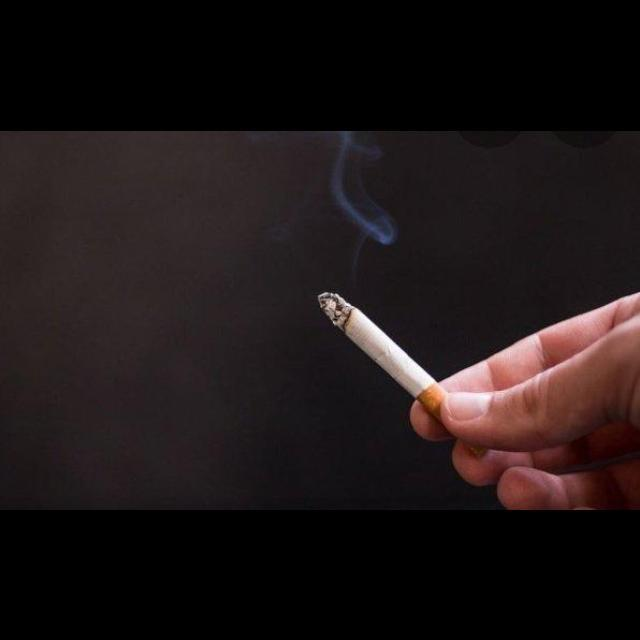rokok: (314, 284, 488, 458)
